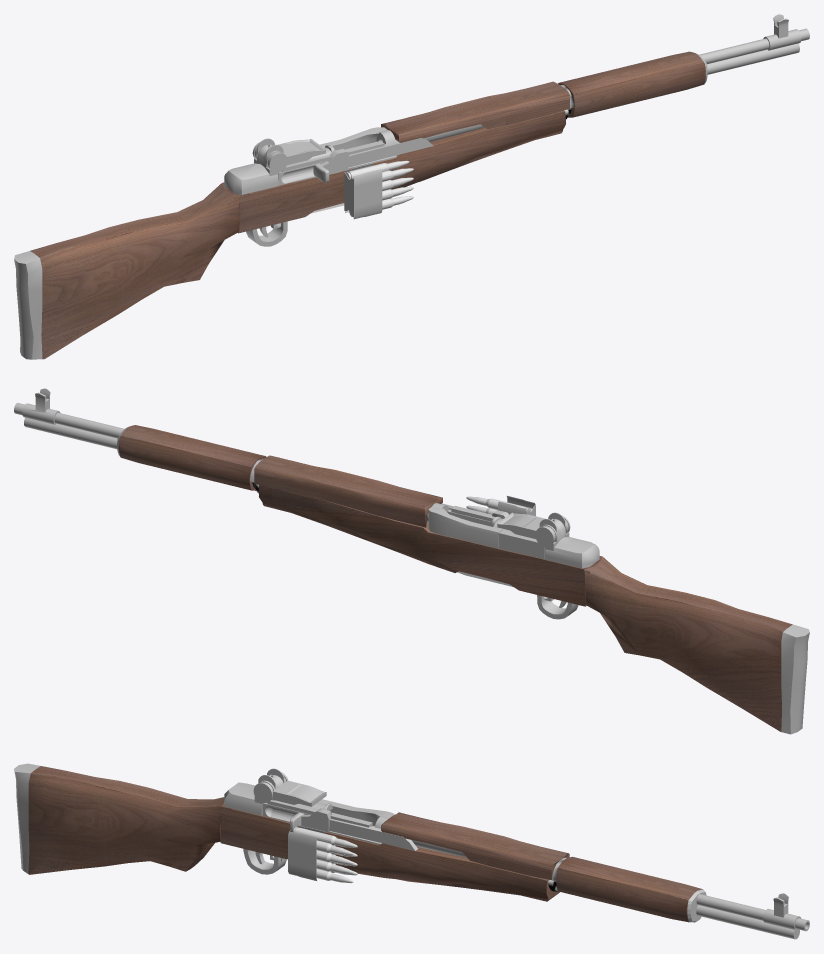
The model's file is m1garand.FBX.
The picture shows the model from 3 angles, top to bottom: view 1: azimuth 30°, elevation 25°; view 2: azimuth 150°, elevation 25°; view 3: azimuth 330°, elevation 25°; orthographic projection.
Parts seen in each view (by area): view 1: m1garand_body, m1garand_receiver_and_rearsight, m1garand_barrel, m1garand_operating_rod, m1garand_en_bloc; view 2: m1garand_body, m1garand_receiver_and_rearsight, m1garand_barrel; view 3: m1garand_body, m1garand_receiver_and_rearsight, m1garand_barrel, m1garand_operating_rod, m1garand_en_bloc, m1garand_shell_casing007.
Boxes of the visible parts, x1,y1,x2,y2 form: m1garand_body: (14, 51, 707, 359); m1garand_receiver_and_rearsight: (224, 124, 483, 194); m1garand_barrel: (699, 14, 809, 74); m1garand_operating_rod: (313, 138, 433, 182); m1garand_en_bloc: (344, 163, 382, 219); m1garand_body: (117, 425, 809, 734); m1garand_receiver_and_rearsight: (427, 503, 599, 568); m1garand_barrel: (14, 388, 124, 449); m1garand_body: (14, 763, 706, 922); m1garand_receiver_and_rearsight: (224, 768, 466, 857); m1garand_barrel: (696, 893, 809, 939); m1garand_operating_rod: (290, 808, 417, 850); m1garand_en_bloc: (288, 825, 325, 880); m1garand_shell_casing007: (293, 827, 343, 846).
Size of the model in its own units: 43.64 by 8.2 by 4.01.
